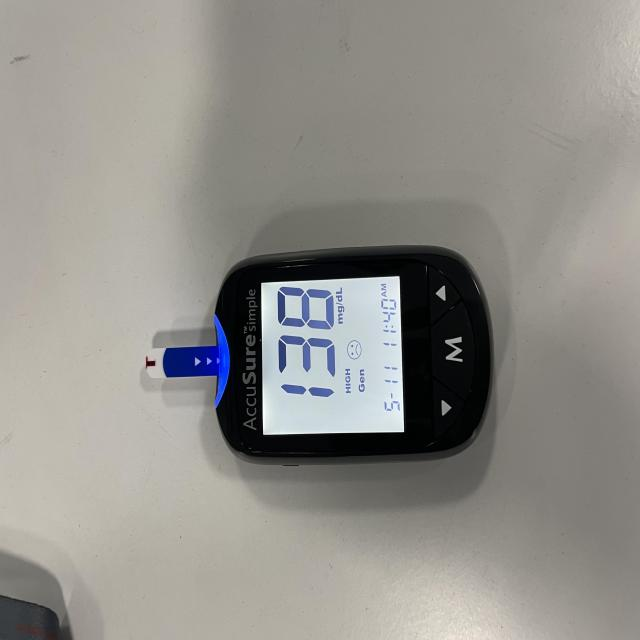gluco: (212, 244, 505, 461)
